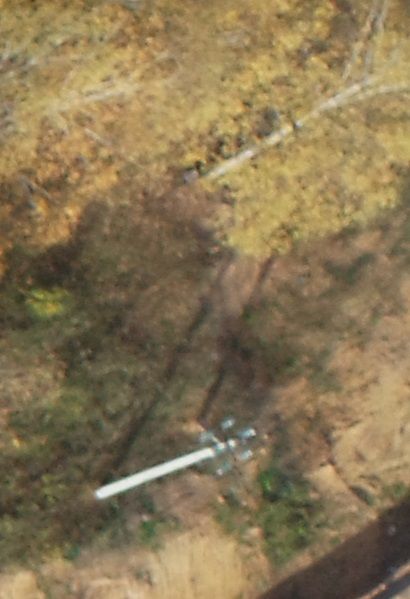opora: (93, 387, 264, 499)
